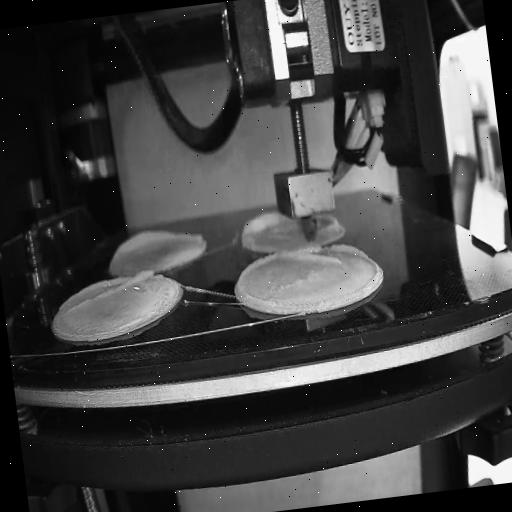over_extrusion: (63, 267, 157, 315), (112, 221, 206, 262), (280, 238, 370, 274), (234, 254, 282, 310), (237, 212, 286, 249)
